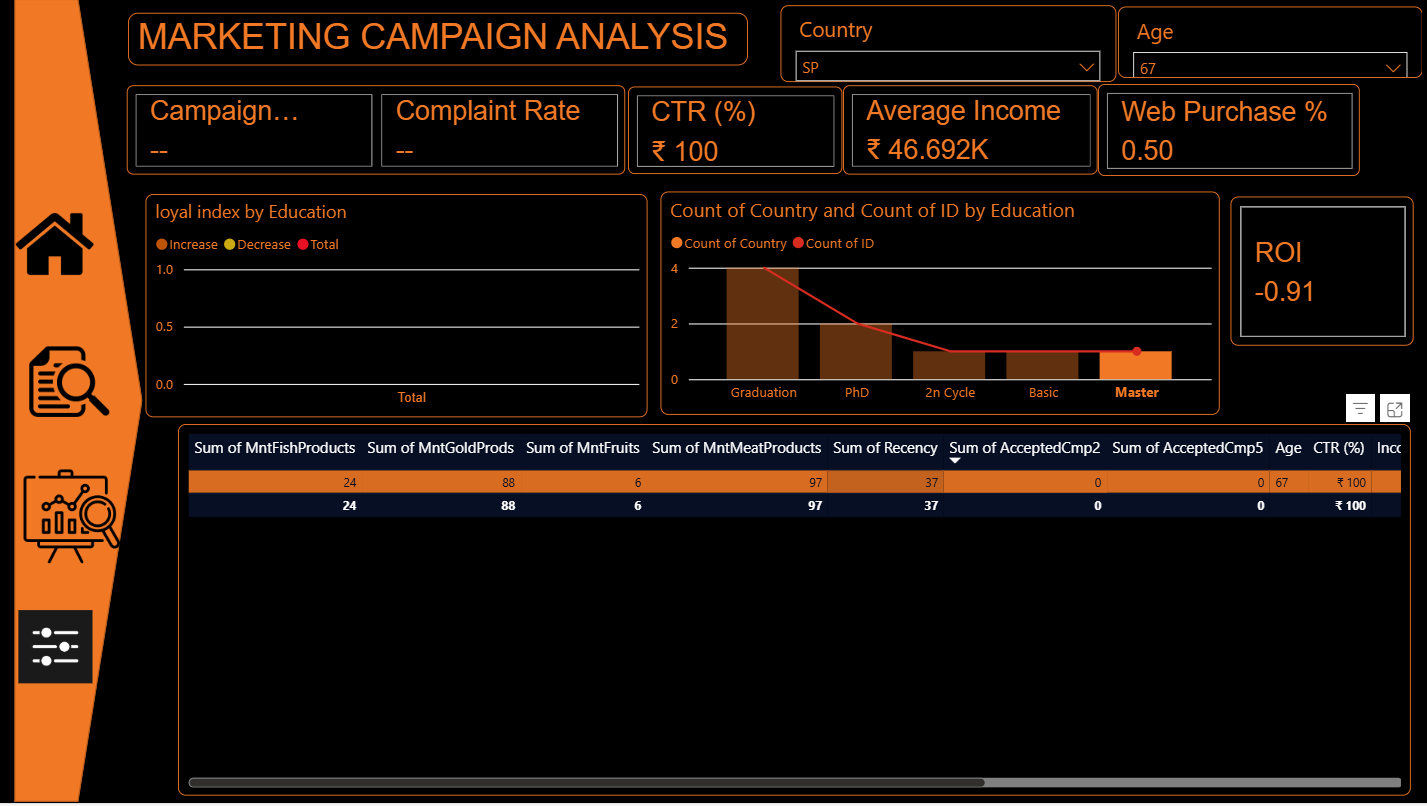

Layout of this report page (visuals, bound fields, positions):
{"tool":"powerbi","page":{"name":"Page 3","canvas":[1280,720],"ordinal":2},"visuals":[{"type":"shape","box":[9.7,0,114.9,719],"z":0},{"type":"image","box":[6.8,136.6,79.6,165.3],"z":1},{"type":"textbox","title":"MARKETING CAMPAIGN ANALYSIS","box":[111.5,12.1,555,47.1],"z":2},{"type":"image","box":[14,300.9,89.3,83.2],"z":3},{"type":"image","box":[0,415,123.8,96.5],"z":4},{"type":"cardVisual","fields":{"Data":["marketing_data.Campaign Acceptance Rate","marketing_data.Complaint Rate"]},"box":[111.2,77.2,446.1,79.6],"z":5},{"type":"cardVisual","fields":{"Data":["marketing_data.CTR (%)"]},"box":[559.5,78.4,191.8,78.4],"z":6},{"type":"cardVisual","fields":{"Data":["marketing_data.Average Income"]},"box":[752.3,77.5,228,79.6],"z":7},{"type":"cardVisual","fields":{"Data":["marketing_data.Web Purchase %"]},"box":[980.8,76,234,82.8],"z":8},{"type":"slicer","fields":{"Values":["marketing_data.Country"]},"box":[696.6,5.3,300.4,68.8],"z":9},{"type":"slicer","fields":{"Values":["marketing_data.Age"]},"box":[998.9,7.2,272.7,64.2],"z":10},{"type":"tableEx","fields":{"Values":["Sum(marketing_data.MntFishProducts)","Sum(marketing_data.MntGoldProds)","Sum(marketing_data.MntFruits)","Sum(marketing_data.MntMeatProducts)","Sum(marketing_data.Recency)","Sum(marketing_data.AcceptedCmp2)","Sum(marketing_data.AcceptedCmp5)","marketing_data.Age","marketing_data.CTR (%)","marketing_data.Income Spend Ratio","Sum(marketing_data.Complain)","marketing_data.ROI"]},"box":[156.8,380.5,1103.9,333],"z":11},{"type":"waterfallChart","fields":{"Y":["marketing_data.ROI"],"Category":["marketing_data.Education"]},"box":[127.9,174.9,449.3,200.3],"z":12},{"type":"cardVisual","fields":{"Data":["marketing_data.ROI"]},"box":[1099.1,176.9,164.1,133.9],"z":13},{"type":"lineStackedColumnComboChart","fields":{"Category":["marketing_data.Education"],"Y":["CountNonNull(marketing_data.Country)"],"Y2":["CountNonNull(marketing_data.ID)"]},"box":[588.7,172.5,500.7,200.3],"z":14},{"type":"image","box":[8.4,516.6,76,127.9],"z":15}]}

Visuals, with their boxes in screenshot pixels (x1, y1, x2, y2), scaled from the page's 1280x720 canvas onto the 1427x806 screenshot:
shape: rect(11, 0, 139, 805)
image: rect(8, 153, 96, 338)
"MARKETING CAMPAIGN ANALYSIS" textbox: rect(124, 14, 743, 66)
image: rect(16, 337, 115, 430)
image: rect(0, 465, 138, 573)
cardVisual - marketing_data.Campaign Acceptance Rate x marketing_data.Complaint Rate: rect(124, 86, 621, 176)
cardVisual - marketing_data.CTR (%): rect(624, 88, 838, 176)
cardVisual - marketing_data.Average Income: rect(839, 87, 1093, 176)
cardVisual - marketing_data.Web Purchase %: rect(1093, 85, 1354, 178)
slicer - marketing_data.Country: rect(777, 6, 1111, 83)
slicer - marketing_data.Age: rect(1114, 8, 1418, 80)
tableEx - Sum(marketing_data.MntFishProducts) x Sum(marketing_data.MntGoldProds): rect(175, 426, 1405, 799)
waterfallChart - marketing_data.ROI x marketing_data.Education: rect(143, 196, 643, 420)
cardVisual - marketing_data.ROI: rect(1225, 198, 1408, 348)
lineStackedColumnComboChart - marketing_data.Education x CountNonNull(marketing_data.Country): rect(656, 193, 1215, 417)
image: rect(9, 578, 94, 721)
